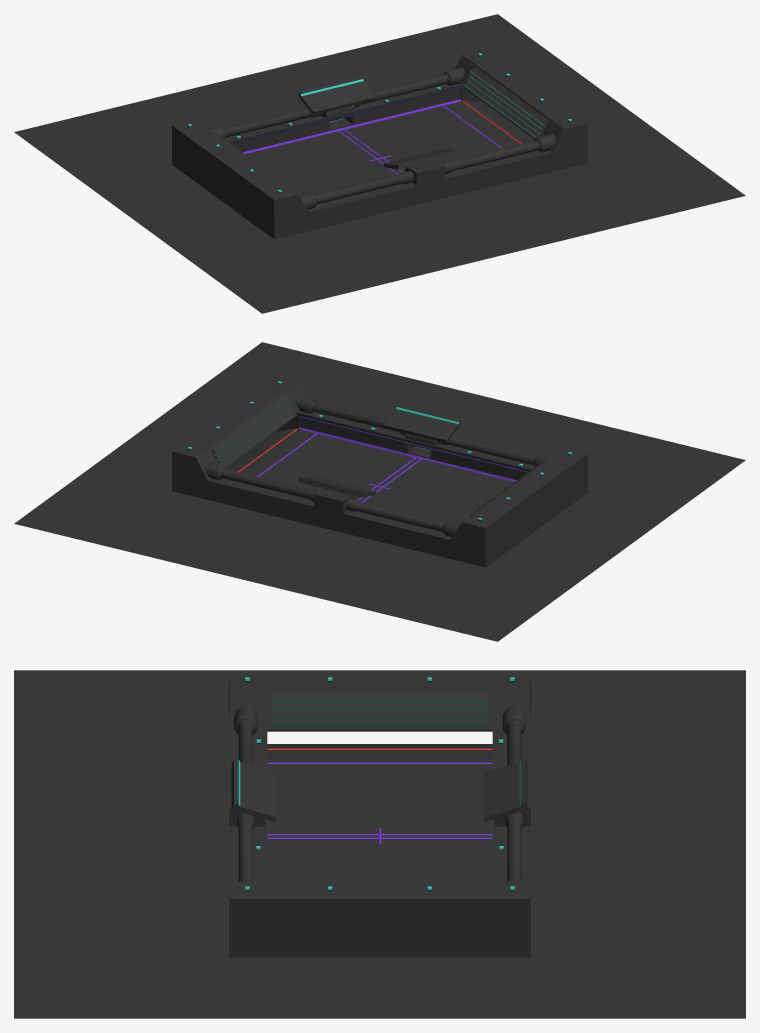
The model's file is Arena.fbx.
3 renders of one model, top to bottom at view 1: azimuth 30°, elevation 25°; view 2: azimuth 150°, elevation 25°; view 3: azimuth 270°, elevation 25°, orthographic. The views are drawn at different scales.
Parts seen in each view (by area): view 1: Arena.001; view 2: Arena.001; view 3: Arena.001.
Boxes of the visible parts, bbox=[...] form: Arena.001: bbox=[14, 14, 745, 313]; Arena.001: bbox=[14, 342, 745, 641]; Arena.001: bbox=[14, 670, 745, 1018].
Bounding box in the file's own units: 5743 × 586 × 5104.
